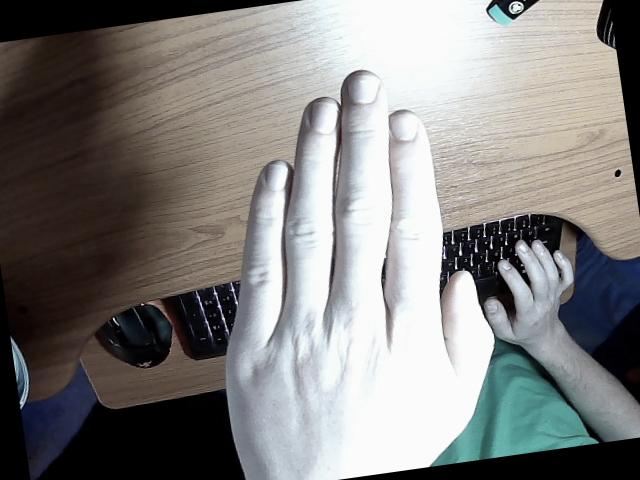paper: (226, 71, 492, 480)
